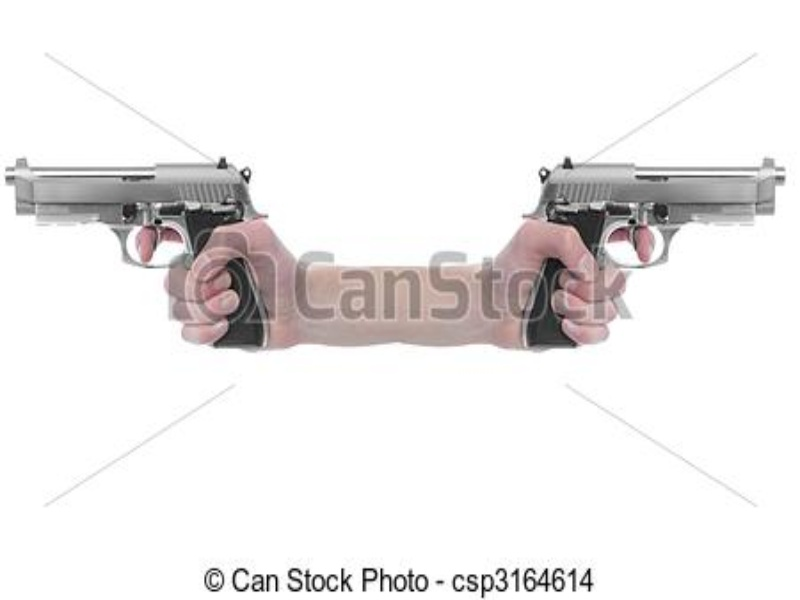gun: (523, 149, 784, 353), (6, 161, 275, 351)
